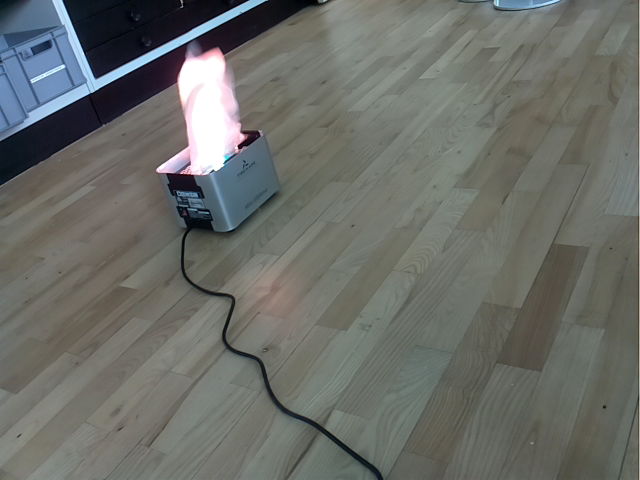fire: (177, 47, 246, 176)
